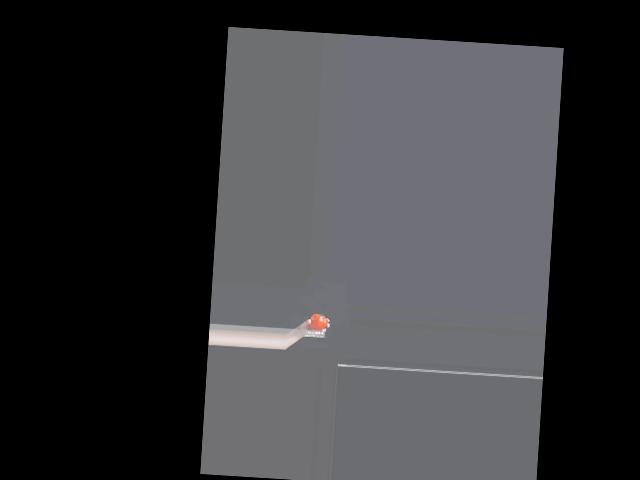tomato: (309, 313, 328, 331)
